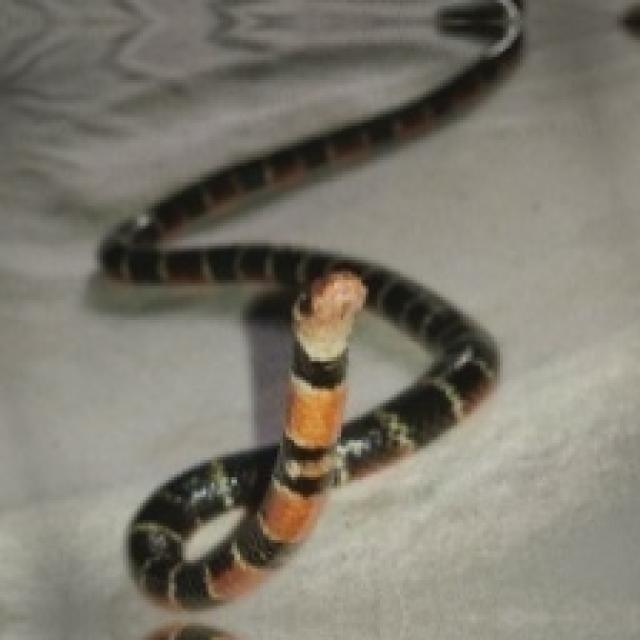barredcoral snake: (97, 0, 517, 606), (337, 303, 434, 423)
